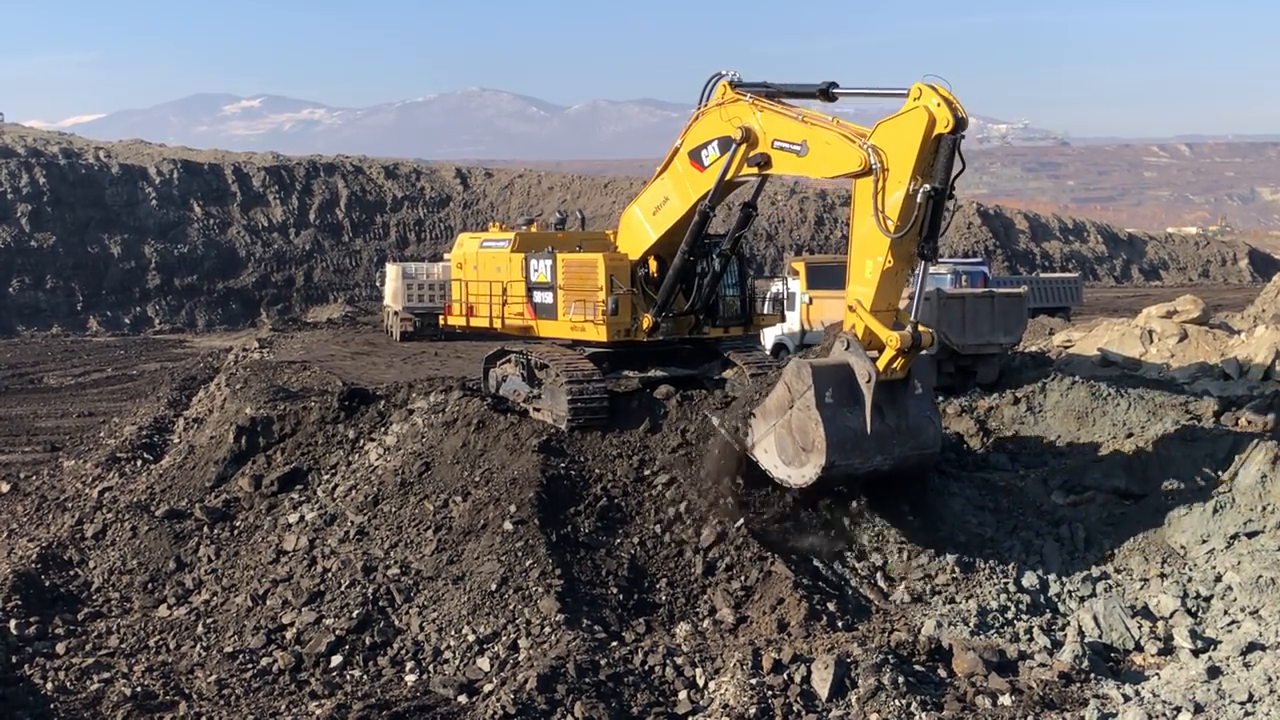full: (718, 326, 955, 502)
